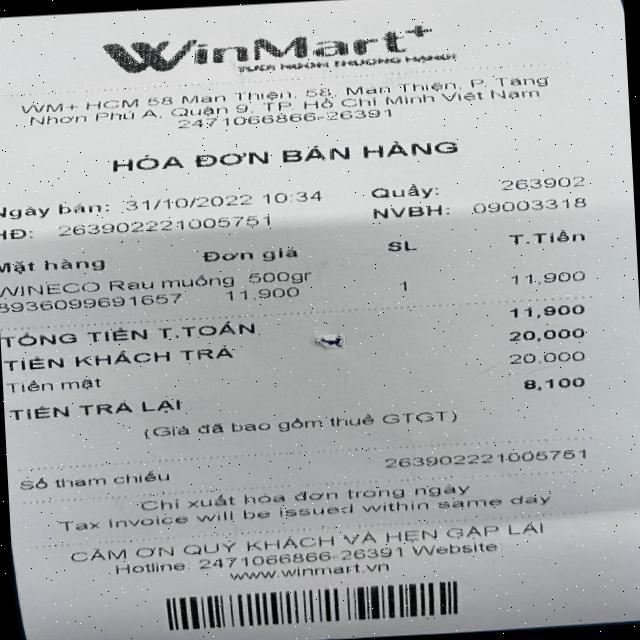Date: (112, 186, 263, 218)
Store_Name: (80, 22, 473, 84)
amount_number: (484, 290, 605, 331)
label_total: (0, 317, 261, 348)
